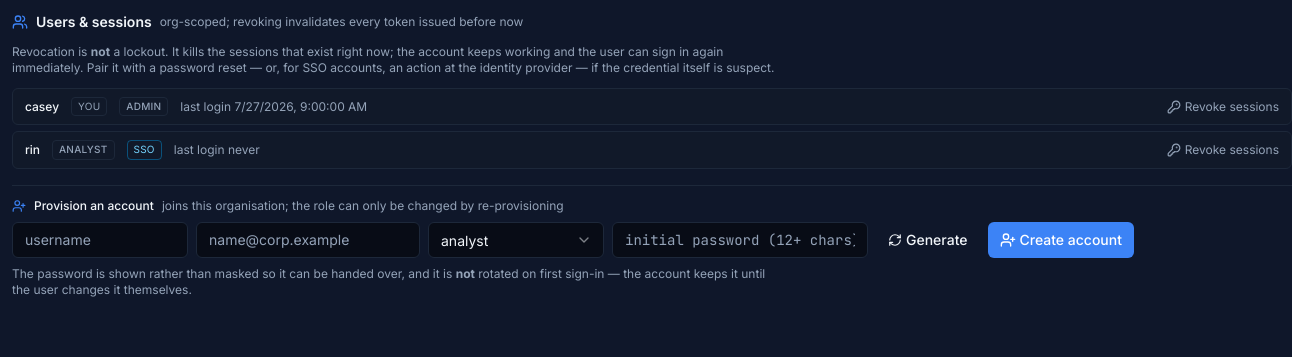
SessionRevocationPanel › provisioning › adds the new account to the roster without a refetch
The width and height of the screenshot is (1292, 357).
Expected: the form with test id "provision-user-form" is shown, [12, 185, 1291, 298]
Type "sam" into the field with test id "provision-username" at coordinates (100, 240), box [12, 222, 188, 258]
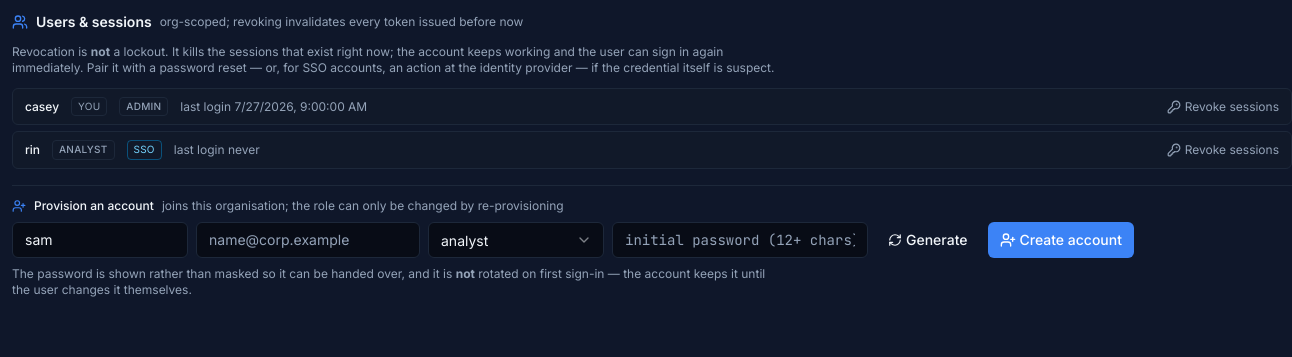
Type "sam@corp.test" into the field with test id "provision-email" at coordinates (308, 240), box [196, 222, 420, 258]
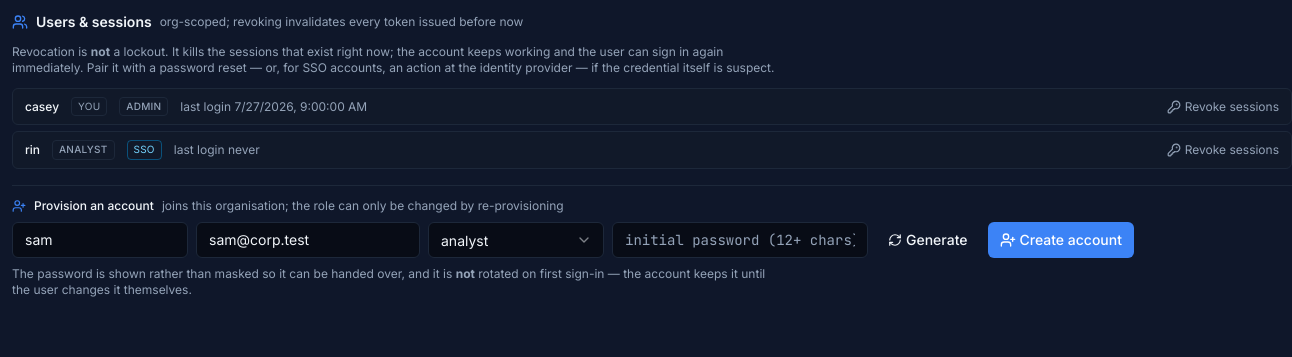
Type "a-long-enough-pw" into the field with test id "provision-password" at coordinates (740, 240), box [612, 222, 868, 258]
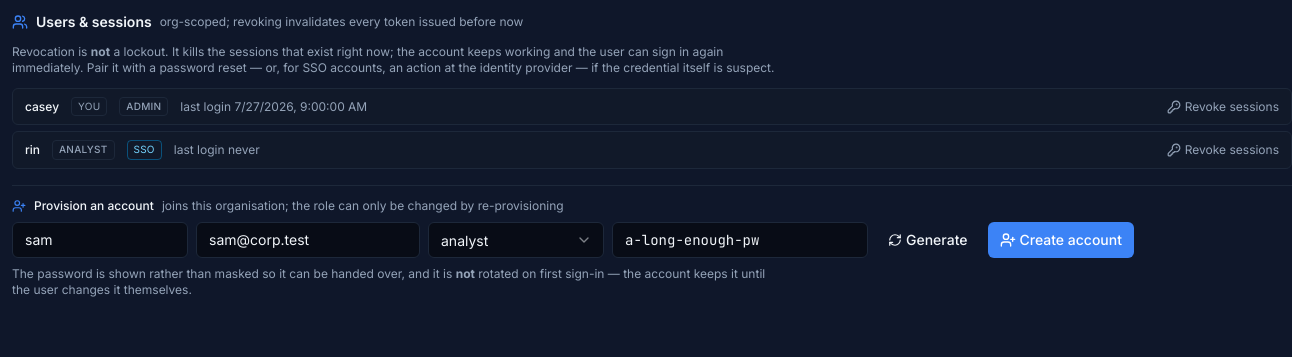
Click the button with test id "provision-submit" at coordinates (1061, 240), box [988, 222, 1134, 258]
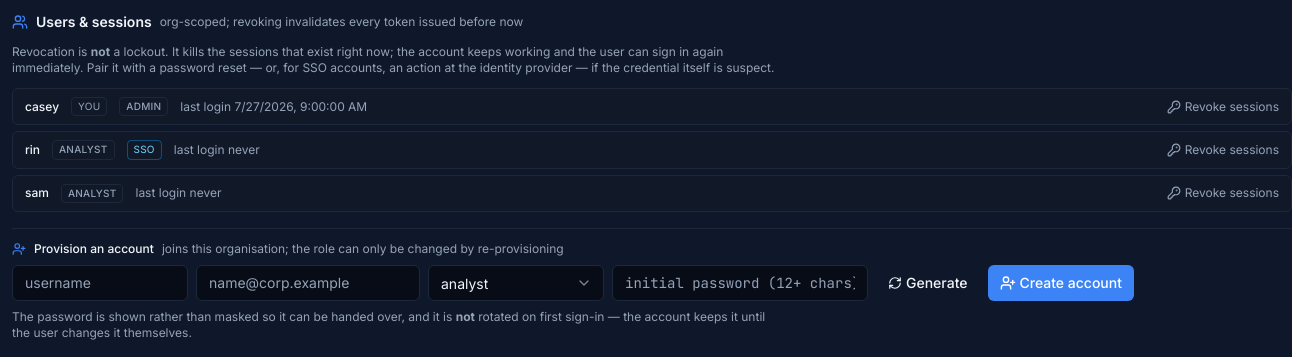
Result: the list item with test id "session-user-usr_new" is shown at [12, 175, 1291, 212]
